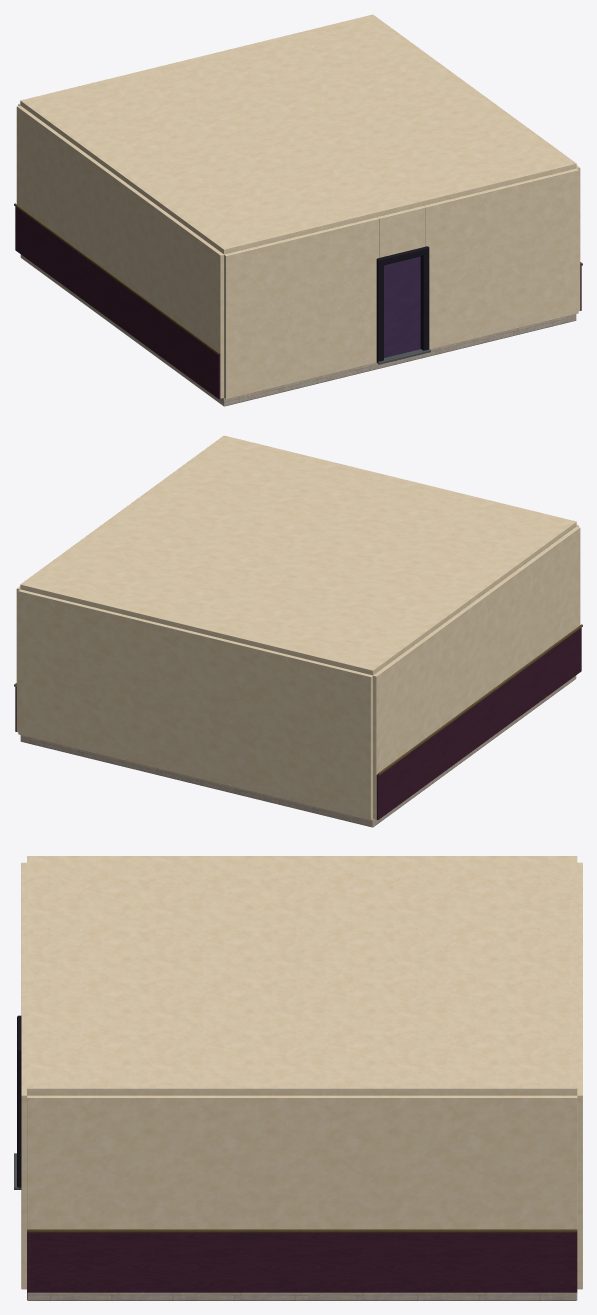
The model's file is explore3d__mirror_waiting.glb.
3 renders of one model, top to bottom at view 1: azimuth 30°, elevation 25°; view 2: azimuth 150°, elevation 25°; view 3: azimuth 270°, elevation 25°, orthographic. The views are drawn at different scales.
Visible parts, largest first — view 1: ceiling.019, wall.050, wall.049, wall.052, lower_panel.051, front.022_leaf, mirror_waiting_floor, door_lintel.012, front.022_jamb, panel_rail.051, front.022_jamb.001; view 2: ceiling.019, wall.051, wall.052, lower_panel.051, mirror_waiting_floor, panel_rail.051; view 3: ceiling.019, wall.053, lower_panel.052, mirror_waiting_floor, wall.051, panel_rail.052, wall.049, front.022_jamb, wall.050.
Boxes of the visible parts, left/top/right/bottom form: ceiling.019: left=20, top=14, right=576, bottom=254; wall.050: left=224, top=217, right=378, bottom=399; wall.049: left=423, top=168, right=578, bottom=349; wall.052: left=16, top=105, right=223, bottom=398; lower_panel.051: left=15, top=206, right=220, bottom=398; front.022_leaf: left=384, top=256, right=420, bottom=357; mirror_waiting_floor: left=20, top=254, right=576, bottom=406; door_lintel.012: left=377, top=206, right=425, bottom=257; front.022_jamb: left=420, top=251, right=429, bottom=350; panel_rail.051: left=14, top=203, right=218, bottom=354; front.022_jamb.001: left=376, top=263, right=383, bottom=362; ceiling.019: left=20, top=435, right=576, bottom=675; wall.051: left=18, top=589, right=372, bottom=820; wall.052: left=373, top=526, right=580, bottom=819; lower_panel.051: left=376, top=627, right=581, bottom=819; mirror_waiting_floor: left=20, top=675, right=576, bottom=827; panel_rail.051: left=378, top=624, right=582, bottom=775; ceiling.019: left=27, top=856, right=577, bottom=1095; wall.053: left=27, top=1095, right=577, bottom=1229; lower_panel.052: left=27, top=1232, right=577, bottom=1292; mirror_waiting_floor: left=27, top=1292, right=577, bottom=1300; wall.051: left=577, top=862, right=582, bottom=1289; panel_rail.052: left=27, top=1229, right=577, bottom=1232; wall.049: left=21, top=994, right=26, bottom=1289; front.022_jamb: left=17, top=1054, right=21, bottom=1187; wall.050: left=21, top=862, right=26, bottom=963.
Size of the model in its own units: 9.32 by 3.84 by 9.3.
Materials: 13 (12 with a texture image).
